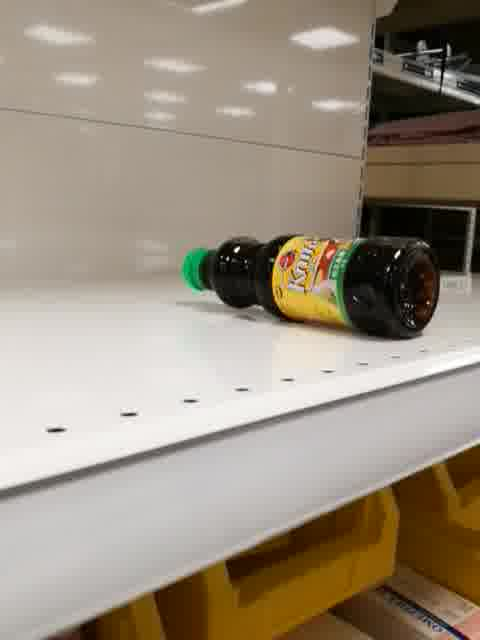cookingoil: (181, 233, 443, 343)
